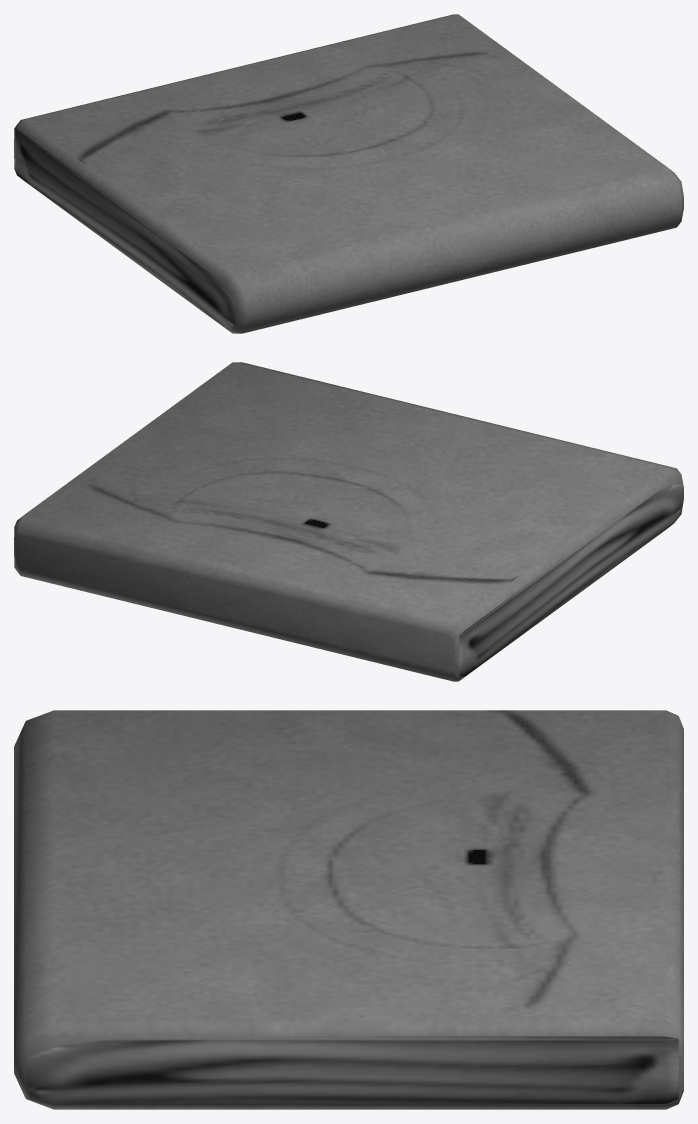
Rendered from tshirt.glb.
3 views of the same model, one above another, from view 1: azimuth 30°, elevation 25°; view 2: azimuth 150°, elevation 25°; view 3: azimuth 270°, elevation 25° (orthographic). The views are drawn at different scales.
Parts seen in each view (by area): view 1: Shirt; view 2: Shirt; view 3: Shirt.
Boxes of the visible parts, x1,y1,x2,y2 form: Shirt: (14, 14, 683, 333); Shirt: (14, 362, 683, 681); Shirt: (14, 710, 683, 1109).
Size of the model in its own units: 0.2219 by 0.0288 by 0.196.
1 material, 1 textured.
